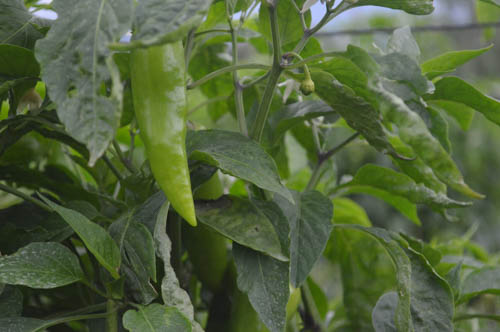ChiliPepper: (130, 41, 198, 225), (181, 152, 236, 290)
